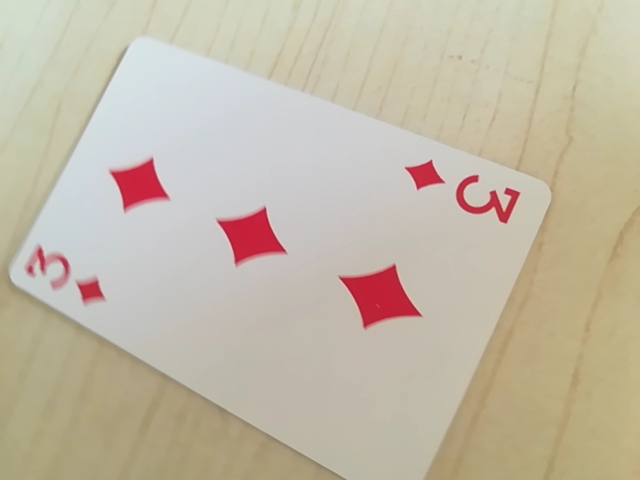fk 3: (396, 162, 523, 228), (15, 240, 114, 306)
